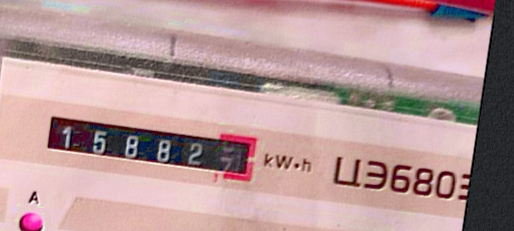1: (62, 120, 79, 150)
2: (188, 139, 208, 167)
5: (92, 126, 113, 158)
7: (220, 152, 236, 171)
8: (124, 131, 144, 161), (157, 134, 177, 164)
screen: (36, 97, 268, 190)
